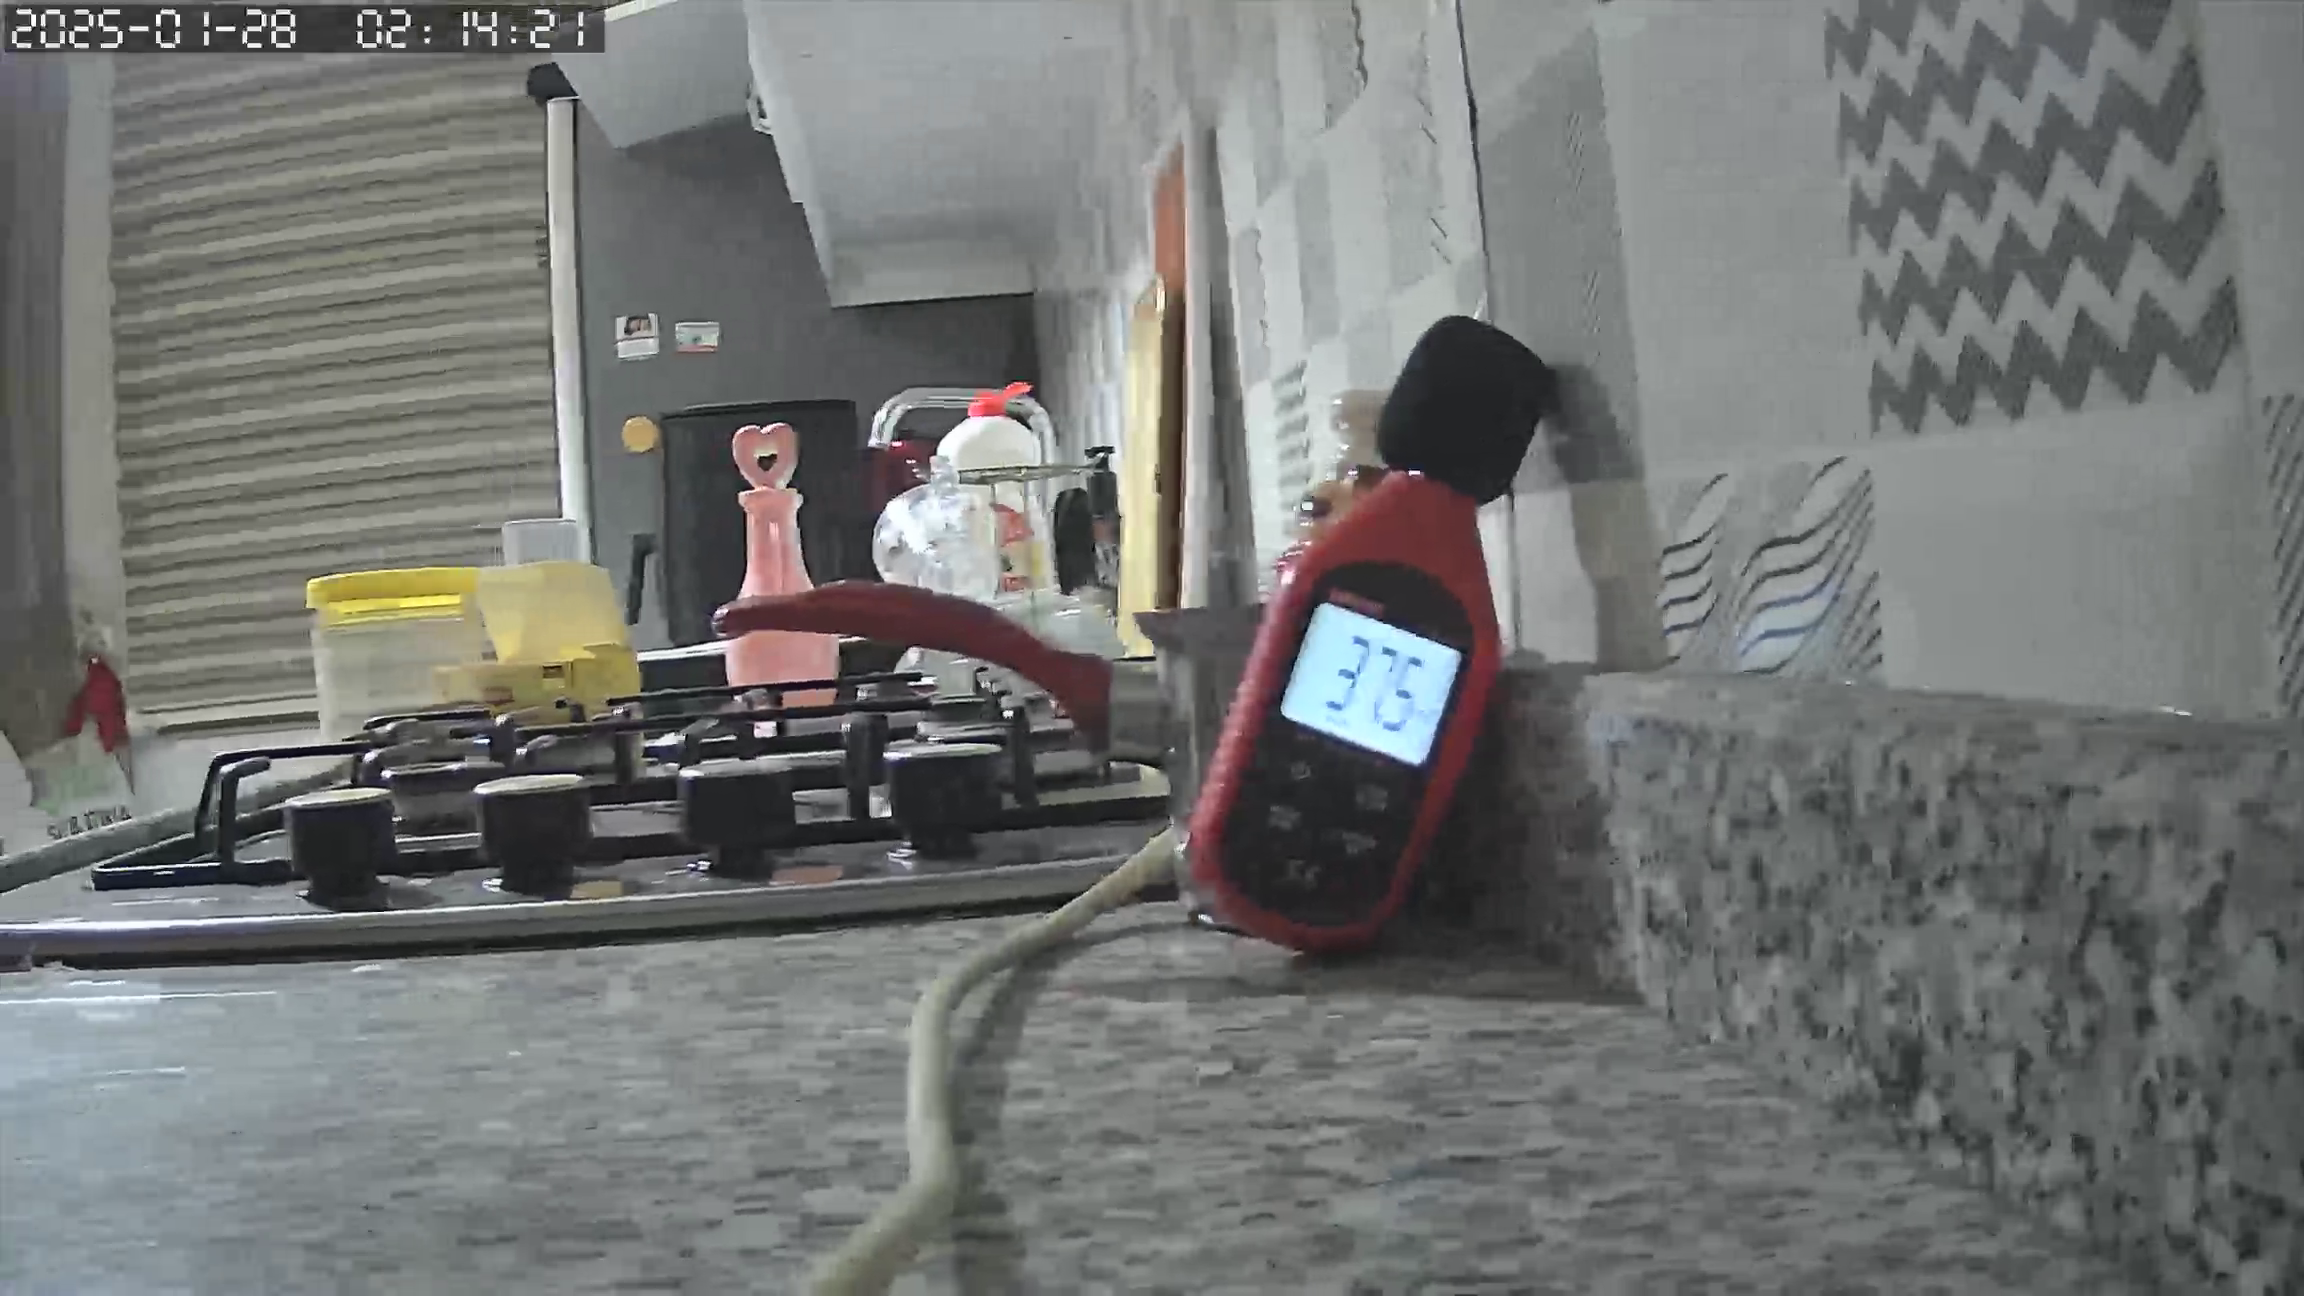screen: (1282, 603, 1465, 766)
